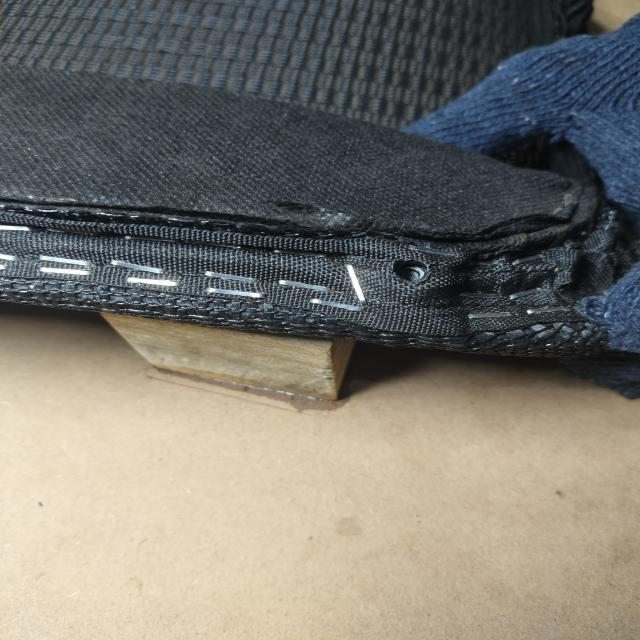Gloves-Detection: (513, 49, 640, 339)
